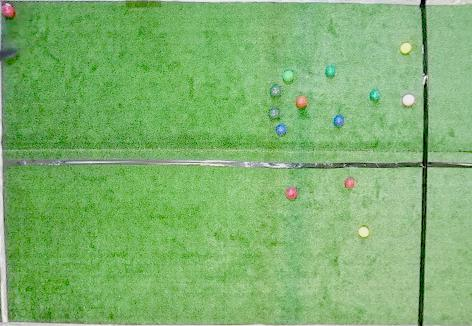blue: (333, 115, 344, 127), (276, 124, 287, 135)
green: (369, 89, 381, 101), (283, 70, 294, 82), (270, 85, 281, 97), (268, 108, 280, 119), (325, 66, 336, 77)
red: (2, 5, 14, 18), (402, 94, 415, 106), (285, 188, 298, 199), (296, 96, 307, 108), (344, 178, 355, 188)
vline: (417, 1, 472, 325), (0, 60, 11, 325), (0, 1, 3, 51)
white: (5, 3, 11, 6)
yellow: (400, 42, 412, 54), (358, 226, 369, 237)
